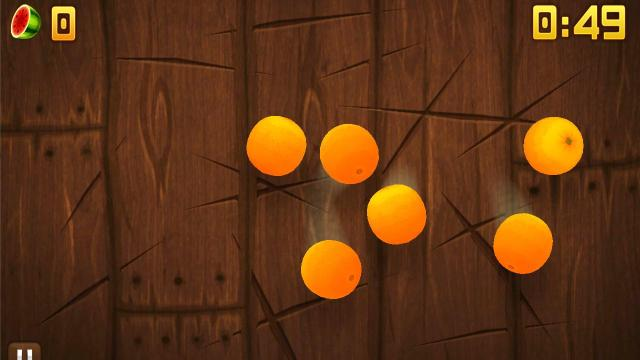fruit: (492, 212, 554, 274), (318, 122, 379, 185), (245, 115, 307, 176), (522, 116, 584, 176), (366, 184, 428, 244), (300, 240, 362, 298)
ignore: (9, 3, 43, 41)
